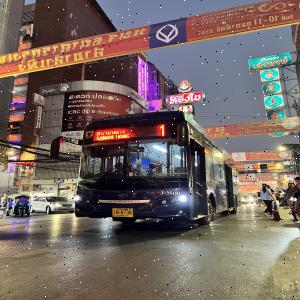Bus Line Number: (150, 120, 175, 139)
Bus Side Number: (158, 190, 180, 196)
Destination Sign: (91, 127, 132, 139)
TSB-Bus: (74, 111, 239, 227)
